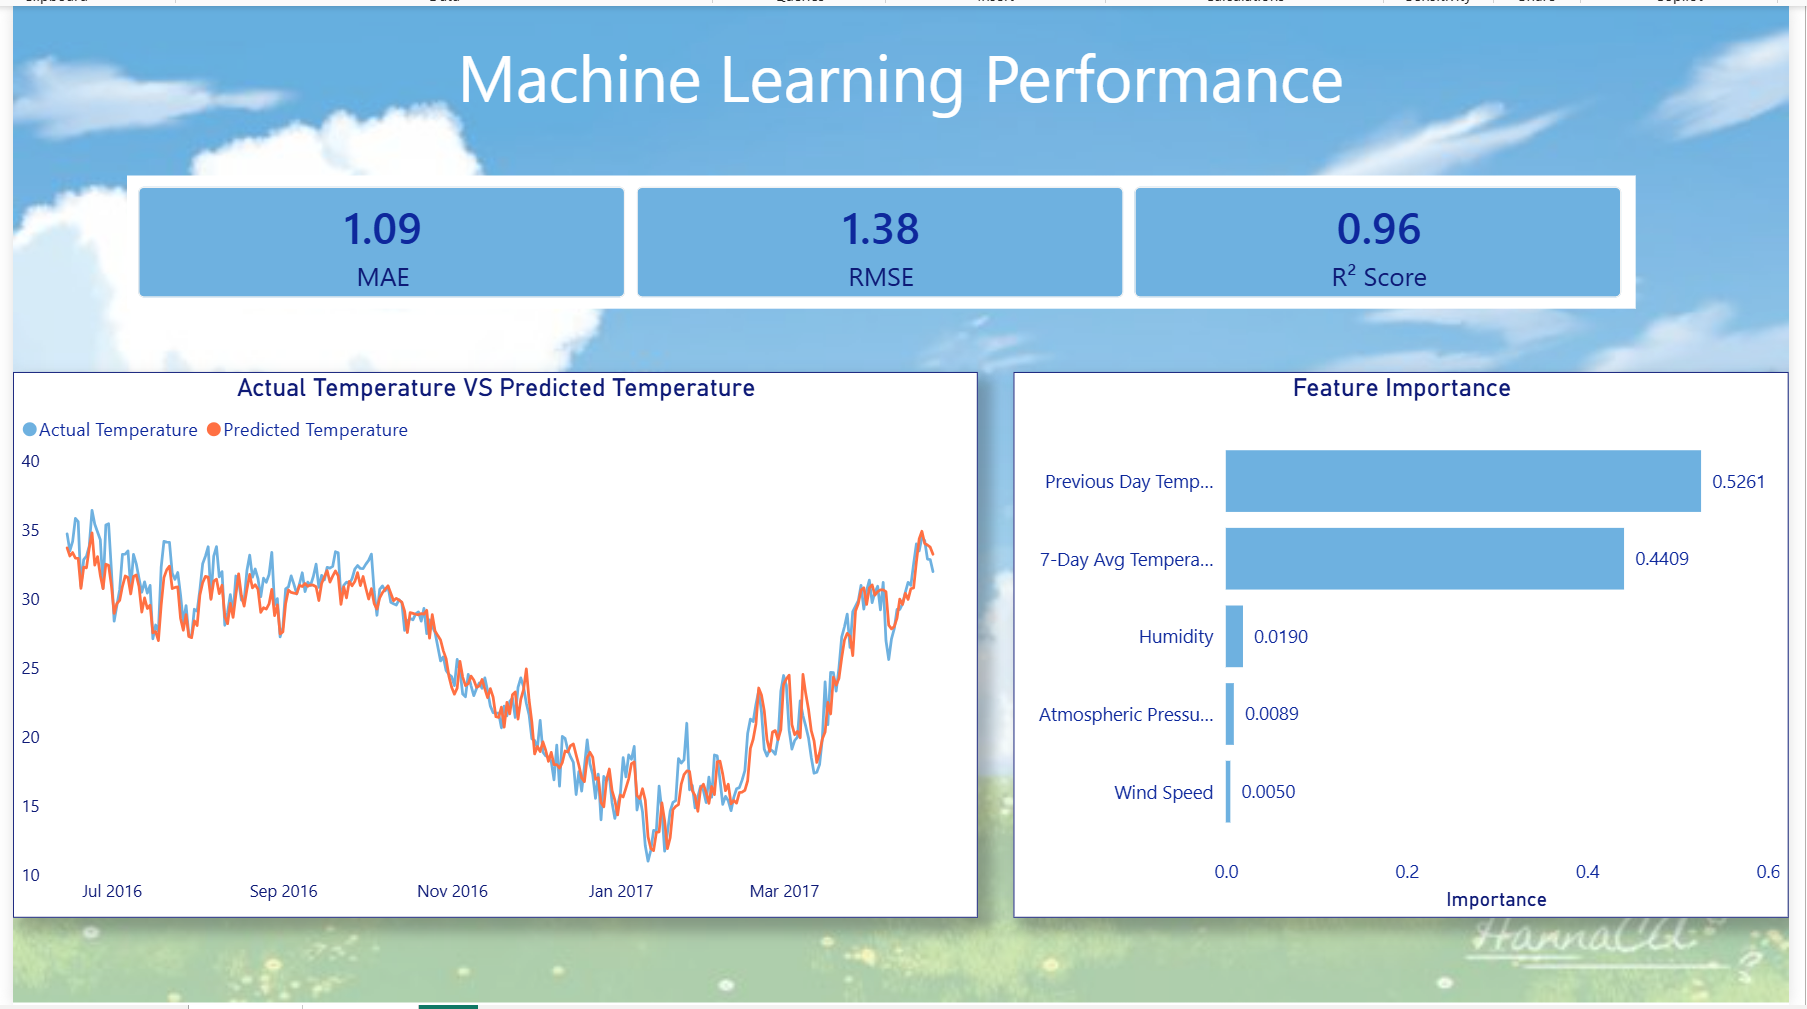

The page's visual inventory and layout, read from the dashboard file:
{"tool":"powerbi","page":{"name":"Page 2","canvas":[1280,720],"ordinal":1},"visuals":[{"type":"shape","box":[0,0,1279.5,93.3],"z":0},{"type":"cardVisual","fields":{"Data":["public weather.MAE","public weather.RMSE","public weather.R² Score"]},"box":[81.9,122.1,1087.1,96.2],"z":1},{"type":"lineChart","title":"Actual Temperature VS Predicted Temperature","fields":{"Y":["Sum(predictions.Actual_Temperature)","Sum(predictions.Predicted_Temperature)"],"Category":["predictions.Date.Variation.Date Hierarchy.Year","predictions.Date.Variation.Date Hierarchy.Quarter","predictions.Date.Variation.Date Hierarchy.Month","predictions.Date.Variation.Date Hierarchy.Day"]},"box":[0,264.2,695.1,393.5],"z":2},{"type":"barChart","title":"Feature Importance","fields":{"Category":["feature_importance.Feature"],"Y":["Sum(feature_importance.Importance)"]},"box":[720.9,264.2,558.6,393.5],"z":3}]}

Visuals, with their boxes in screenshot pixels (x1, y1, x2, y2):
shape: bbox=(19, 0, 1784, 129)
cardVisual - public weather.MAE x public weather.RMSE: bbox=(132, 168, 1631, 301)
"Actual Temperature VS Predicted Temperature" lineChart: bbox=(19, 364, 978, 907)
"Feature Importance" barChart: bbox=(1013, 364, 1784, 907)
